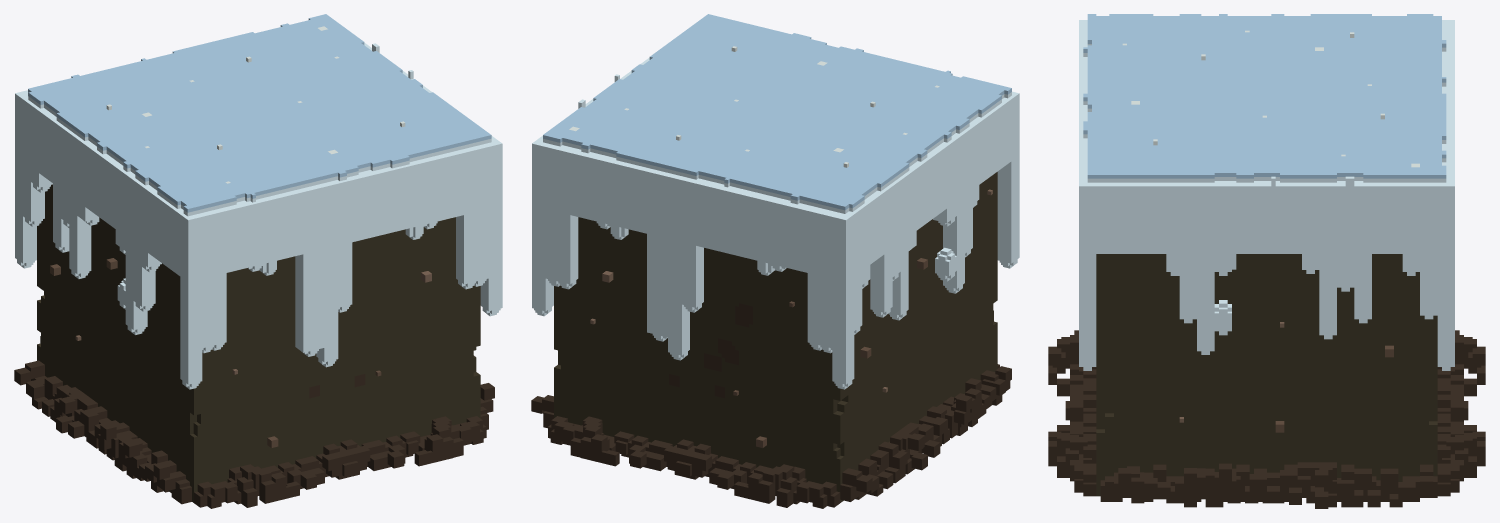
File: groundice.glb
3 views of the same model, side by side, from view 1: azimuth 30°, elevation 25°; view 2: azimuth 150°, elevation 25°; view 3: azimuth 270°, elevation 25° (orthographic). The views are drawn at different scales.
Visible parts, largest first — view 1: Untitled; view 2: Untitled; view 3: Untitled.
Boxes of the visible parts, x1,y1,x2,y2 form: Untitled: (14, 14, 502, 508); Untitled: (531, 14, 1019, 508); Untitled: (1048, 14, 1485, 508).
Bounding box in the file's own units: 10 × 8.3 × 10.
1 material, 1 textured.
